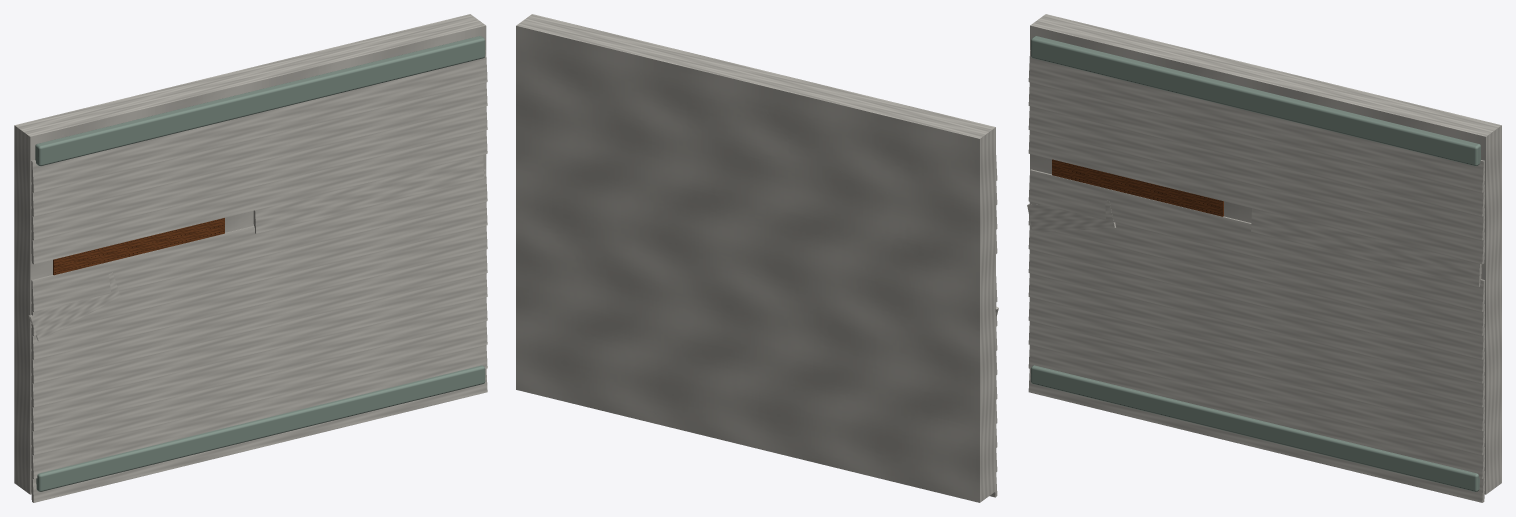
The model's file is halloween-slasher-street-clapboard-wall-bay-526aaeea__27265.glb.
The picture shows the model from 3 angles, left to right: view 1: azimuth 30°, elevation 25°; view 2: azimuth 150°, elevation 25°; view 3: azimuth 330°, elevation 25°; orthographic projection.
Visible parts, largest first — view 1: clapboard-wall-bay; view 2: clapboard-wall-bay; view 3: clapboard-wall-bay.
Boxes of the visible parts, bbox=[...] form: clapboard-wall-bay: bbox=[14, 14, 487, 502]; clapboard-wall-bay: bbox=[516, 14, 998, 502]; clapboard-wall-bay: bbox=[1027, 14, 1501, 502].
Bounding box in the file's own units: 4.01 × 3.06 × 0.3101.
Materials: 3 (2 with a texture image).
